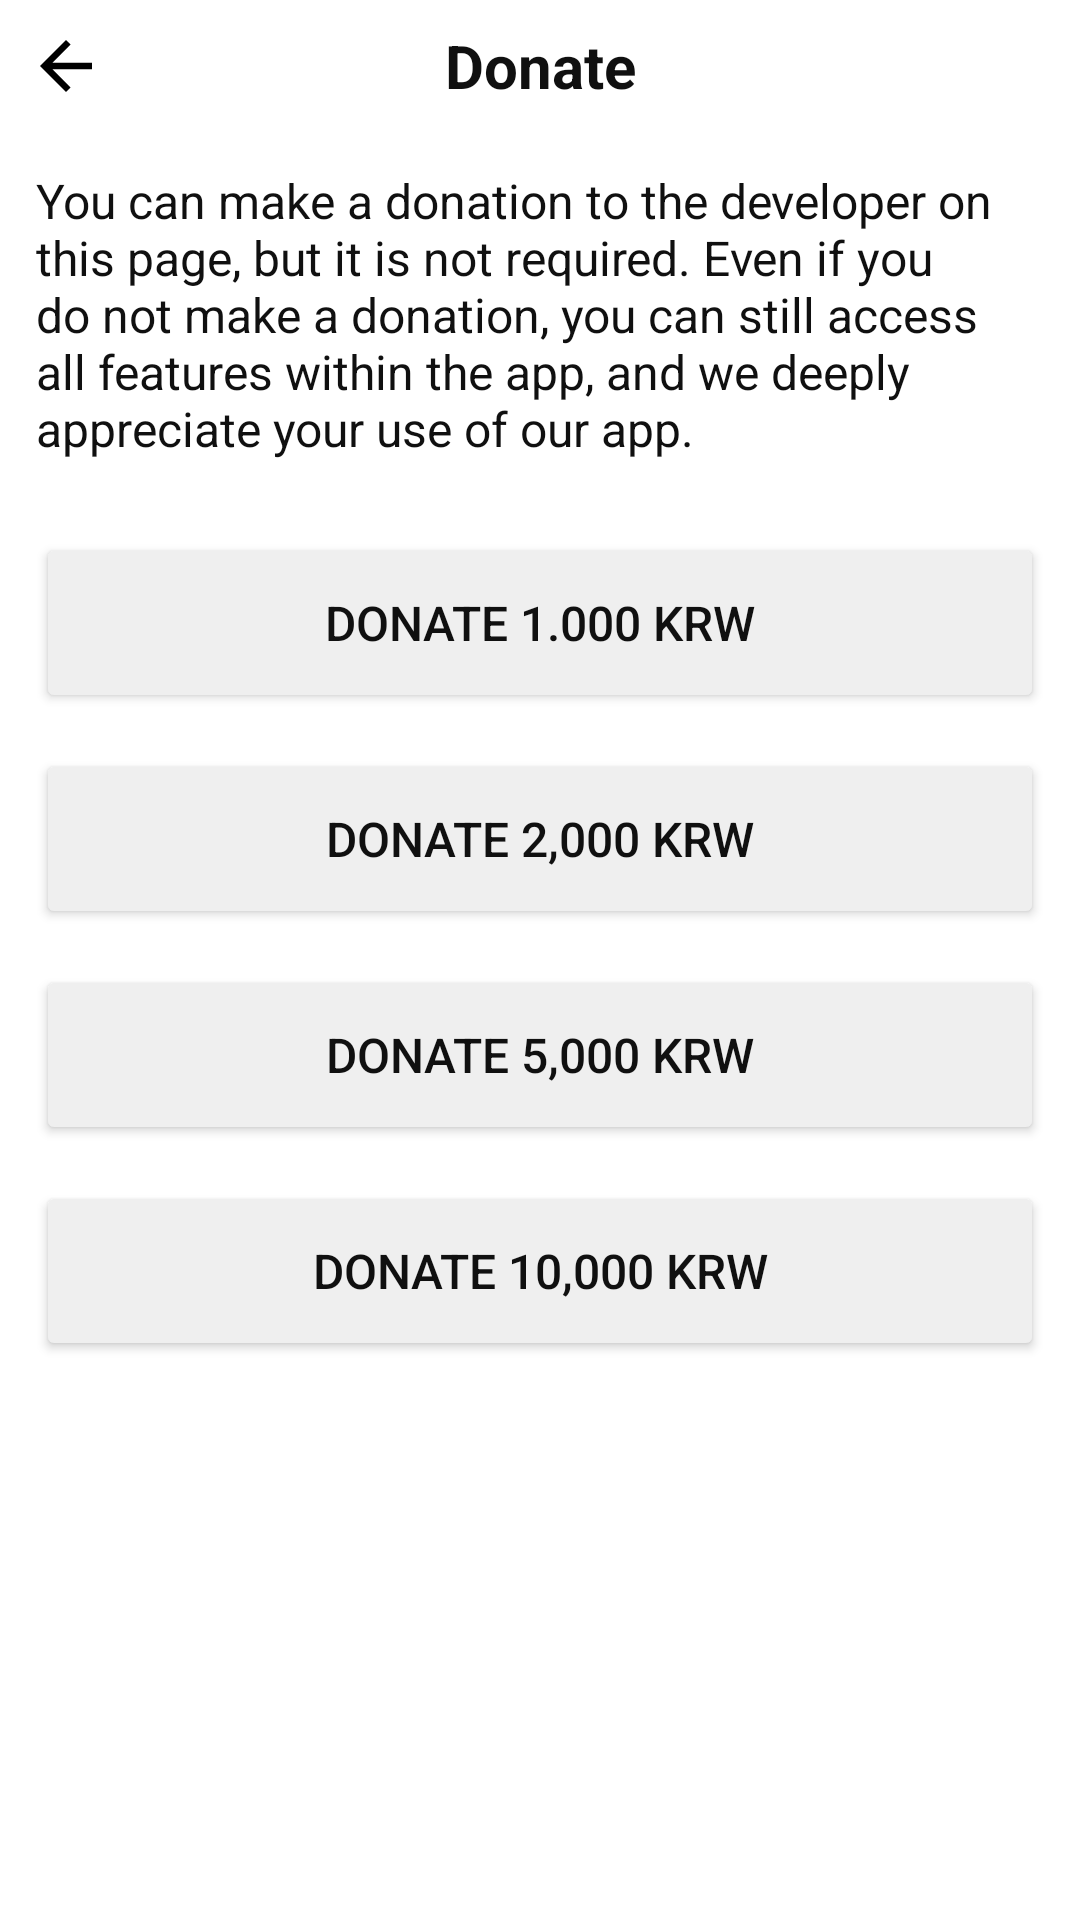

Locate icon controls on the screen. Image size 1080 x 1920, boxes as (x1, y1, x2, y2).
arrow back: (40, 40, 92, 92)
